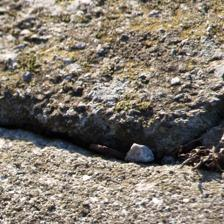Crack: (2, 55, 219, 113)
